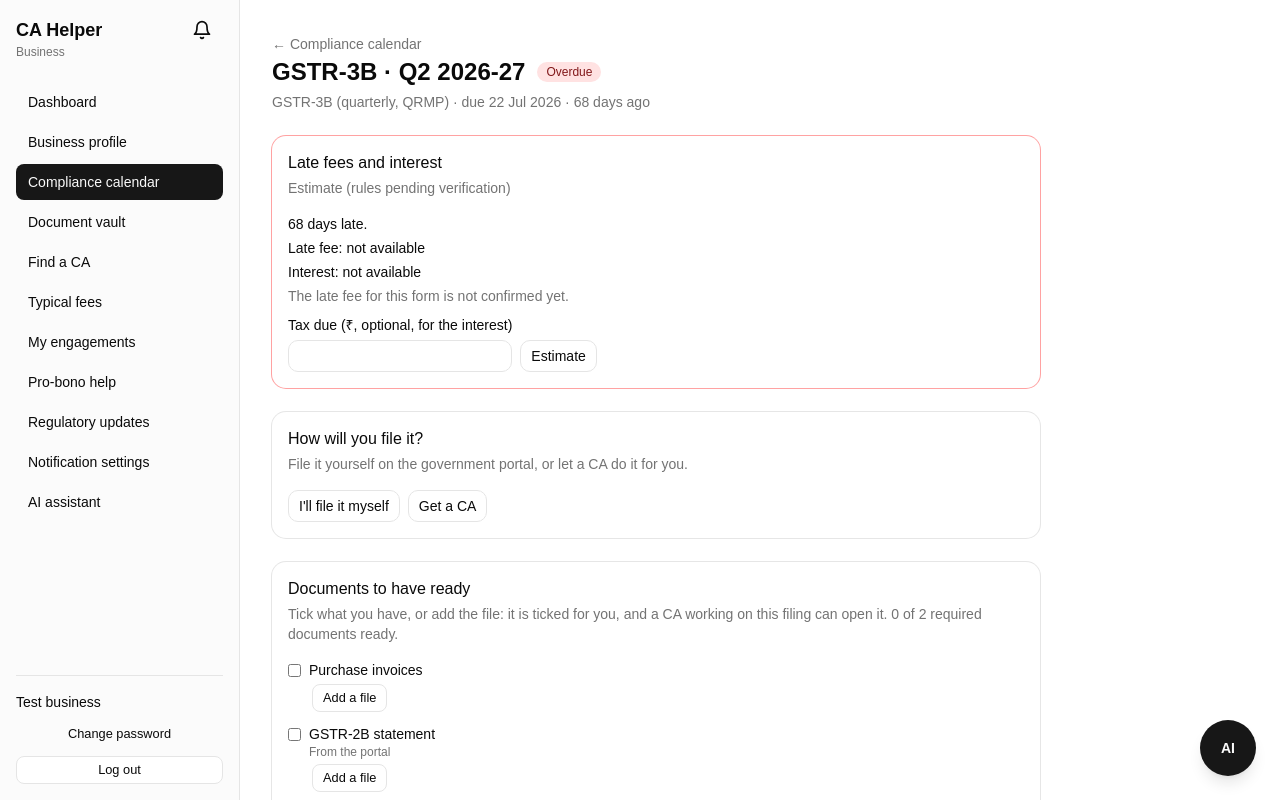
Test case: late fees on the filing page › adds the interest for the tax due
Type "36500" into the field labelled "Tax due (₹, optional, for the interest)". click: (400,356)
box: [288,340,512,372]
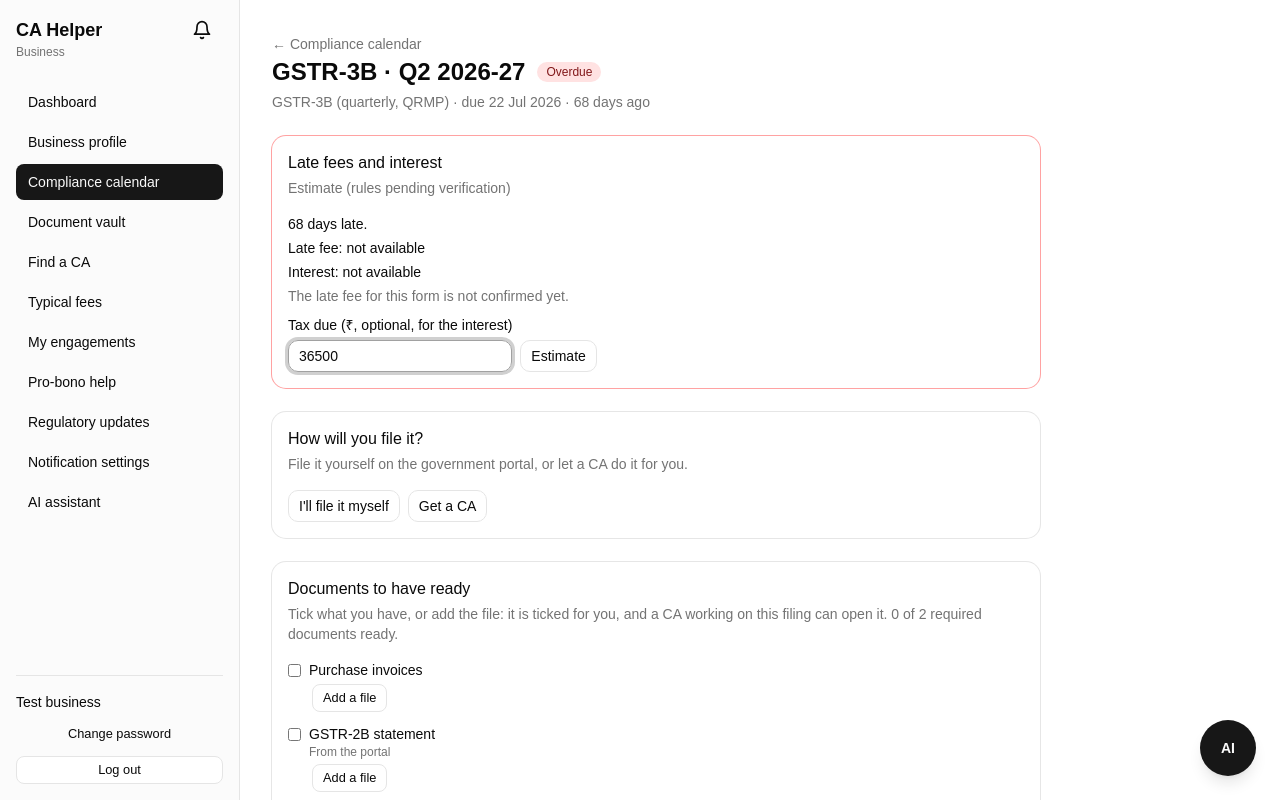
Click the button "Estimate". click: (559,356)
box: [520,340,597,372]
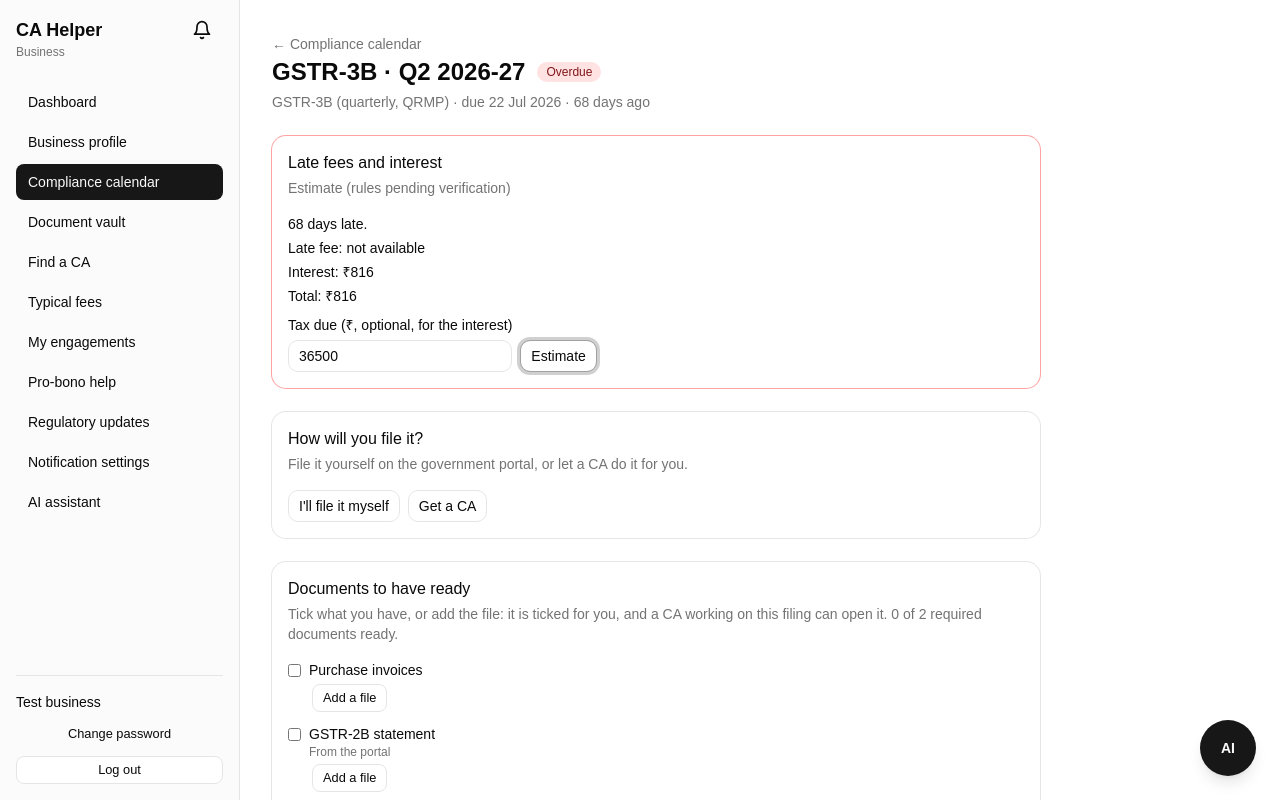
Now the text "Total: ₹816" is shown, box [288,288,357,304]
Now the text "Interest: ₹816" is shown, box [288,264,374,280]
